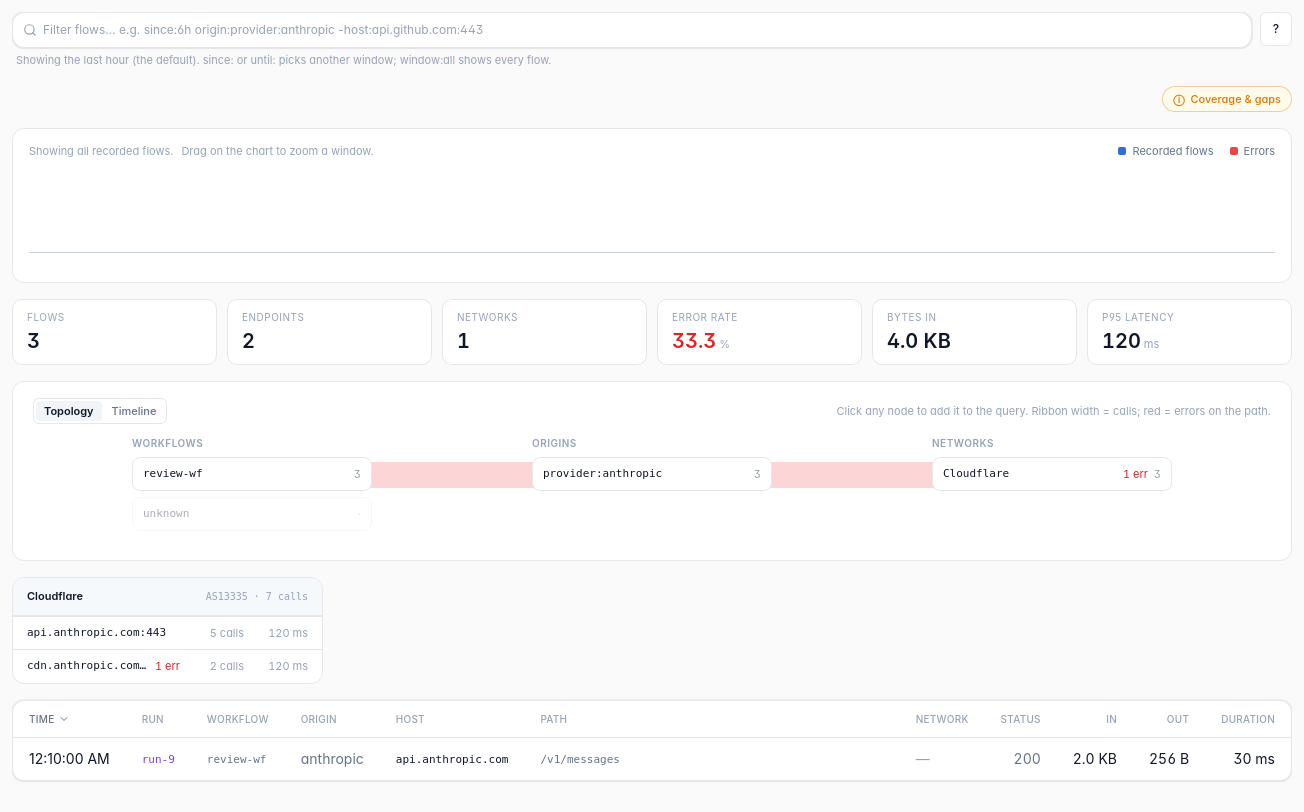
NetflowExplorer: loading and errors › "Updating…" › is cleared when the refetch fails
Expected: the text "api.anthropic.com" is shown, 396,752 -> 508,766
Step 1. Click the button "review-wf 3" → click(252, 474), box 132,457 -> 372,491
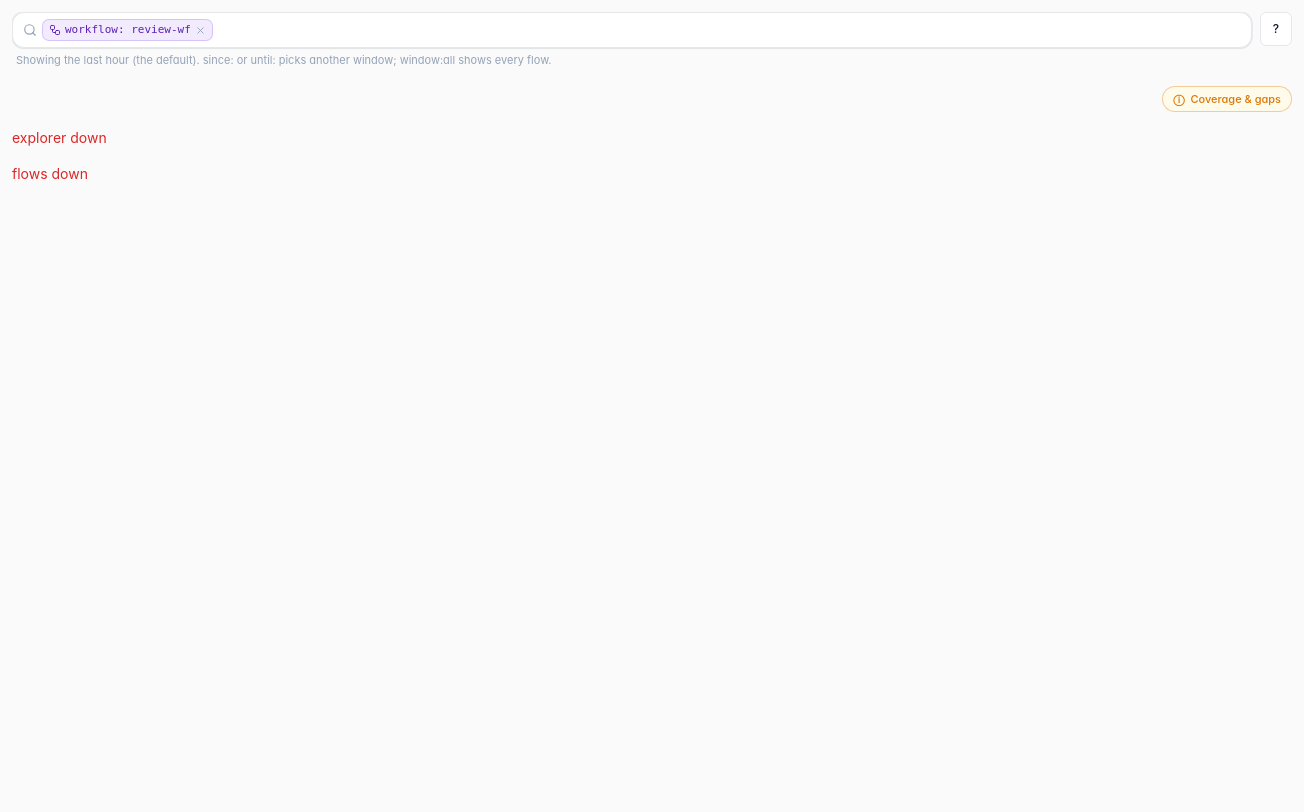
Expected: the text "flows down" is shown, 12,165 -> 88,182
